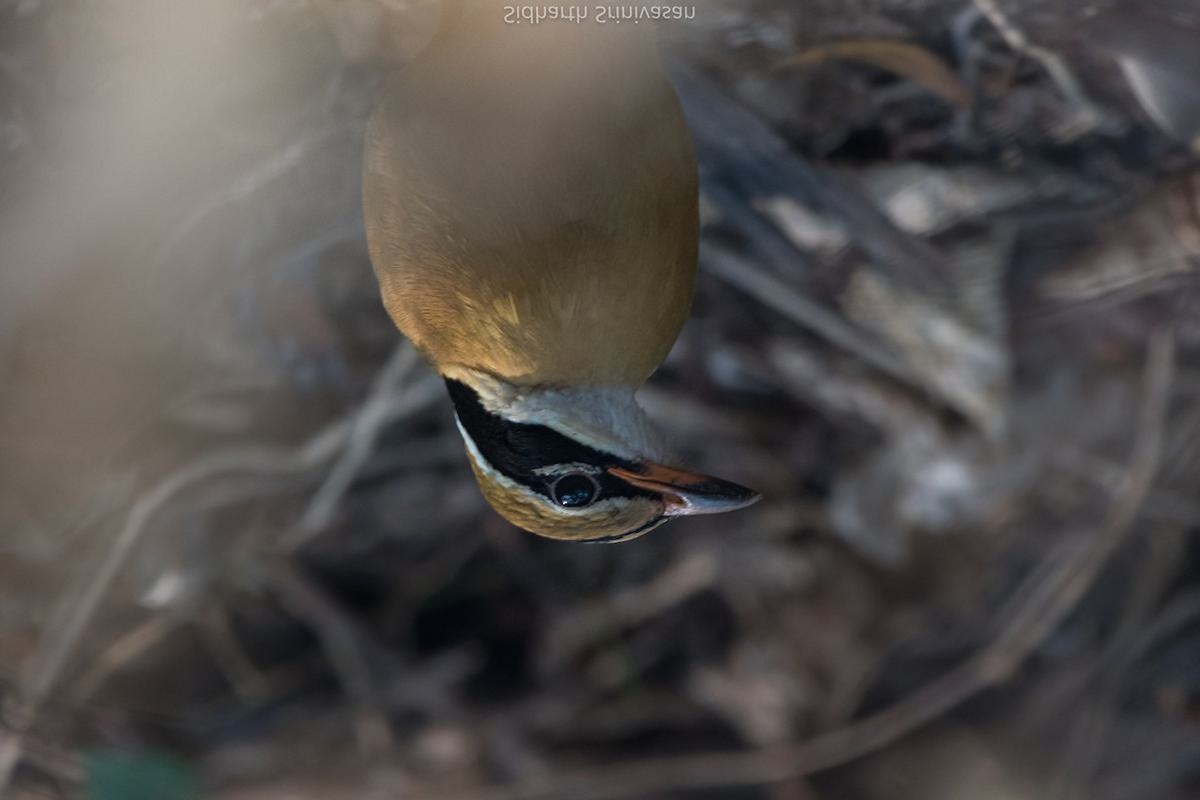pitta: (308, 47, 791, 573)
